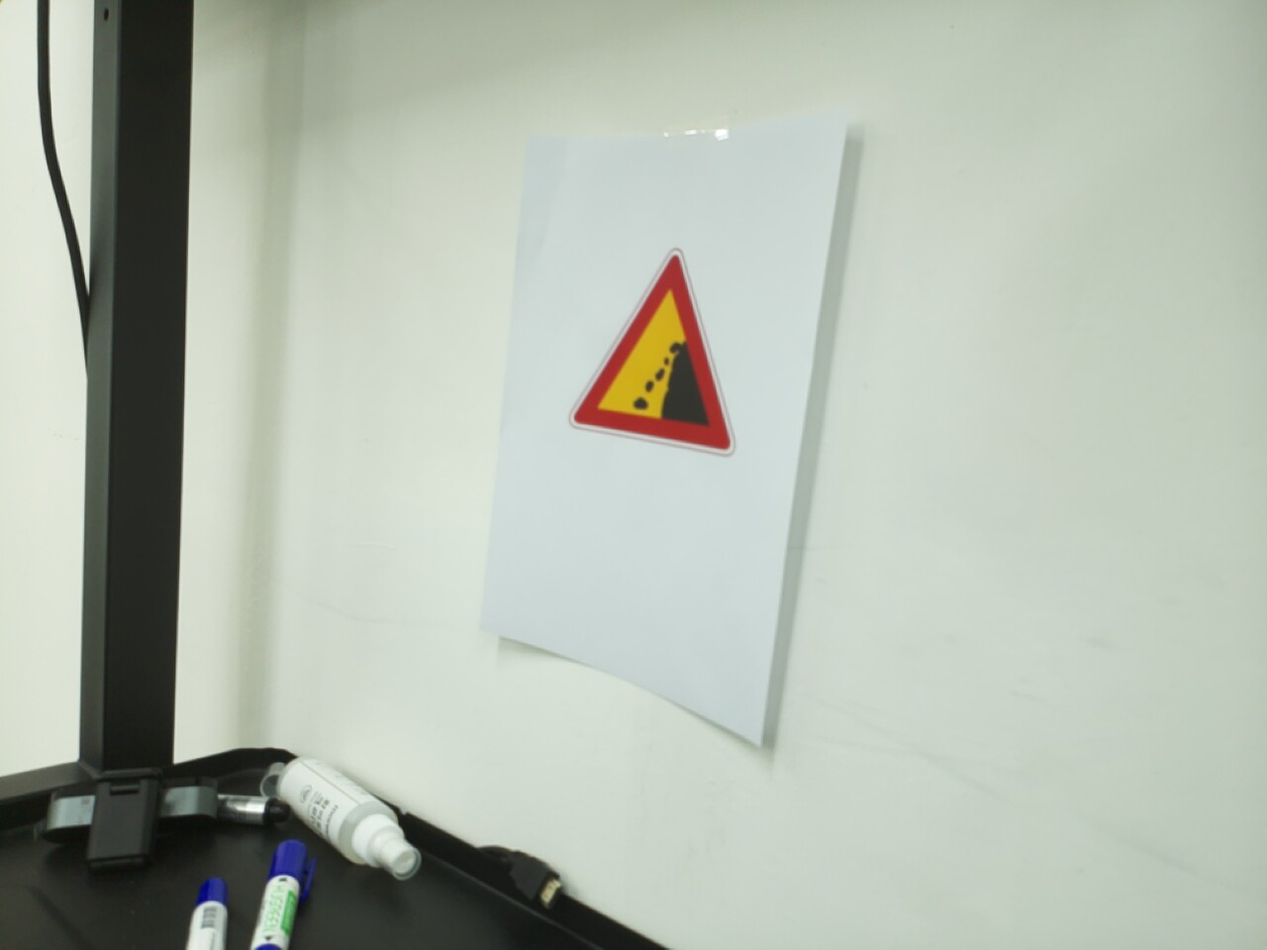falling_rocks: (567, 247, 737, 458)
